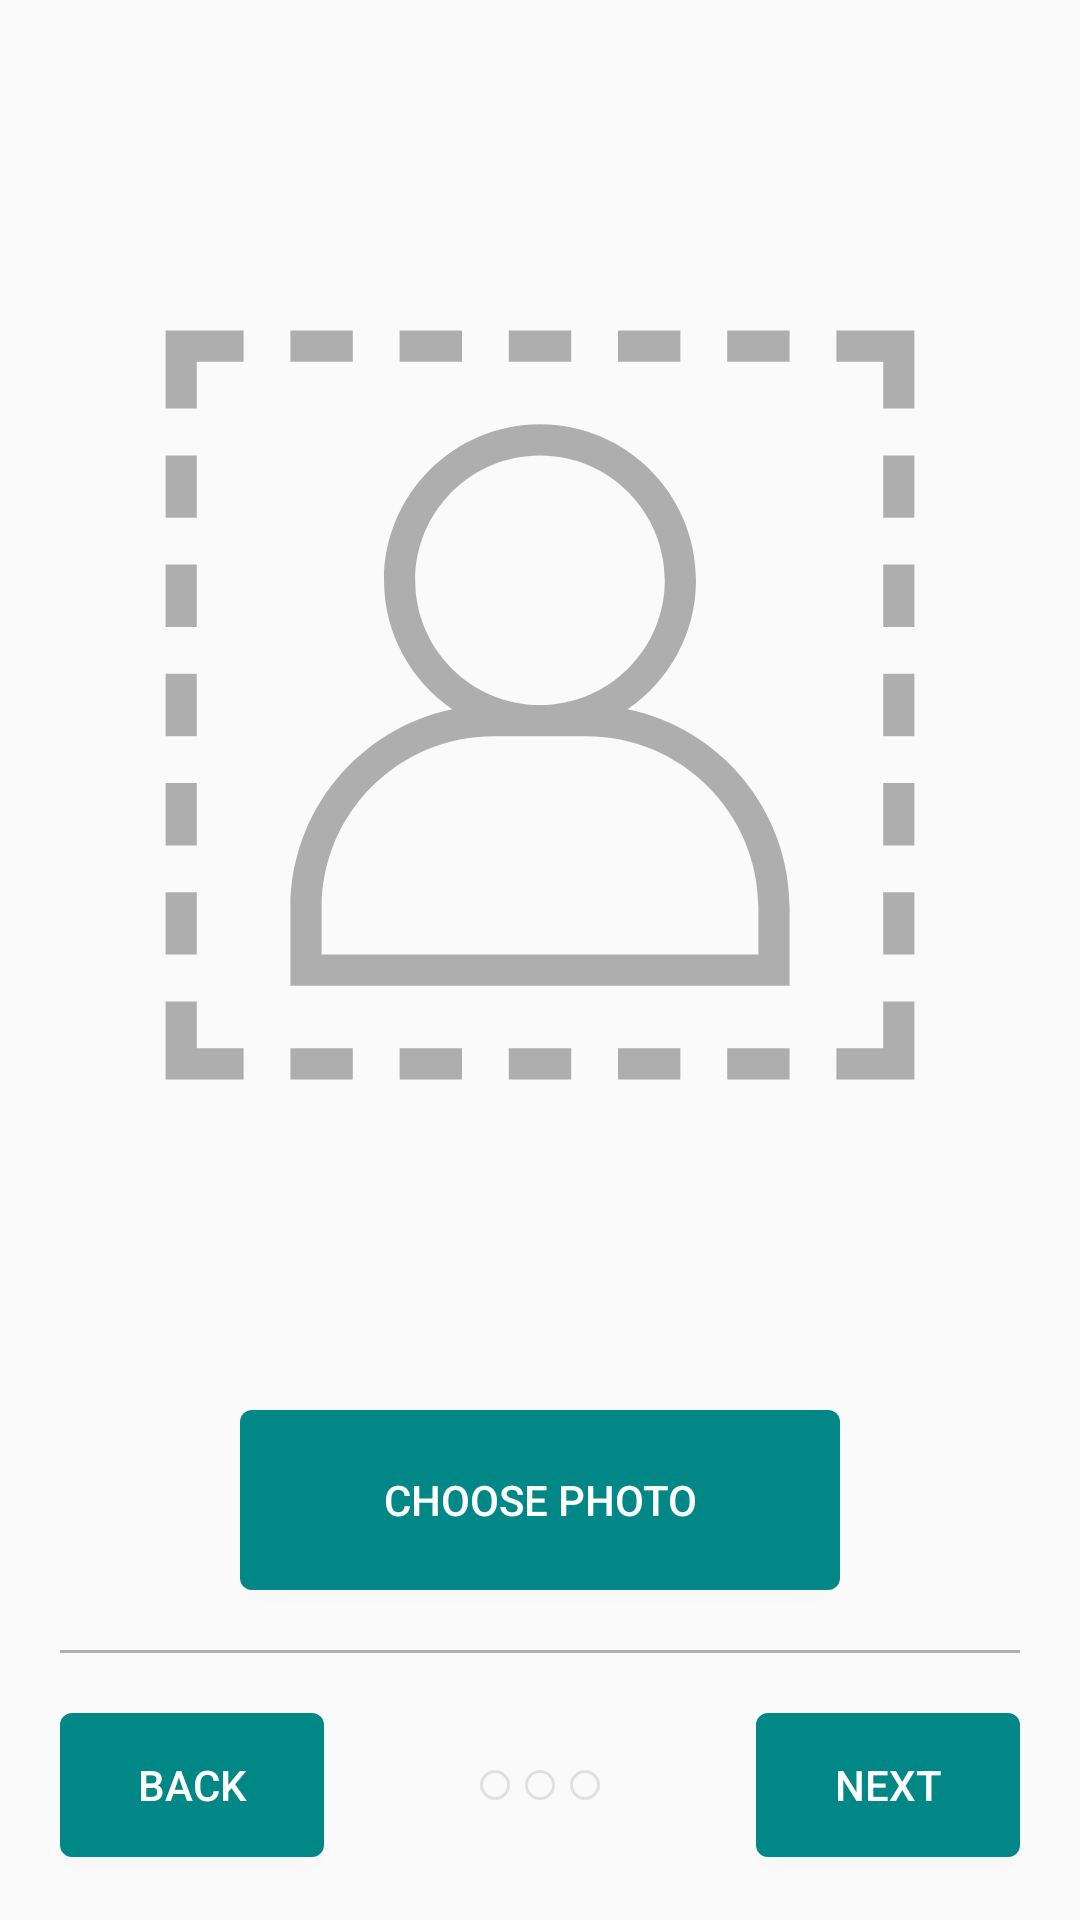

Icon bounding boxes for this 1080 x 1920 phone screenshot, format (x1, y1, x2, y2):
dot empty: (480, 1770, 510, 1800), (525, 1770, 555, 1800), (570, 1770, 600, 1800)
